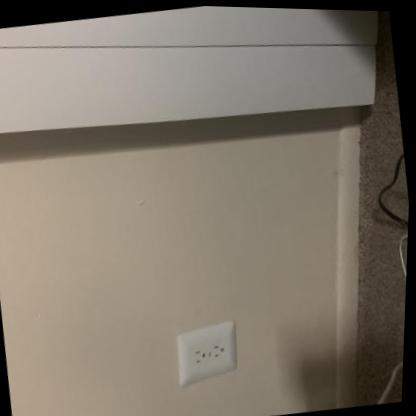OUTLET: (173, 319, 241, 381)
